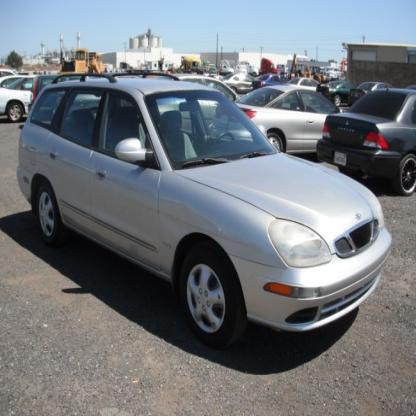Vehicle: (18, 73, 392, 344)
